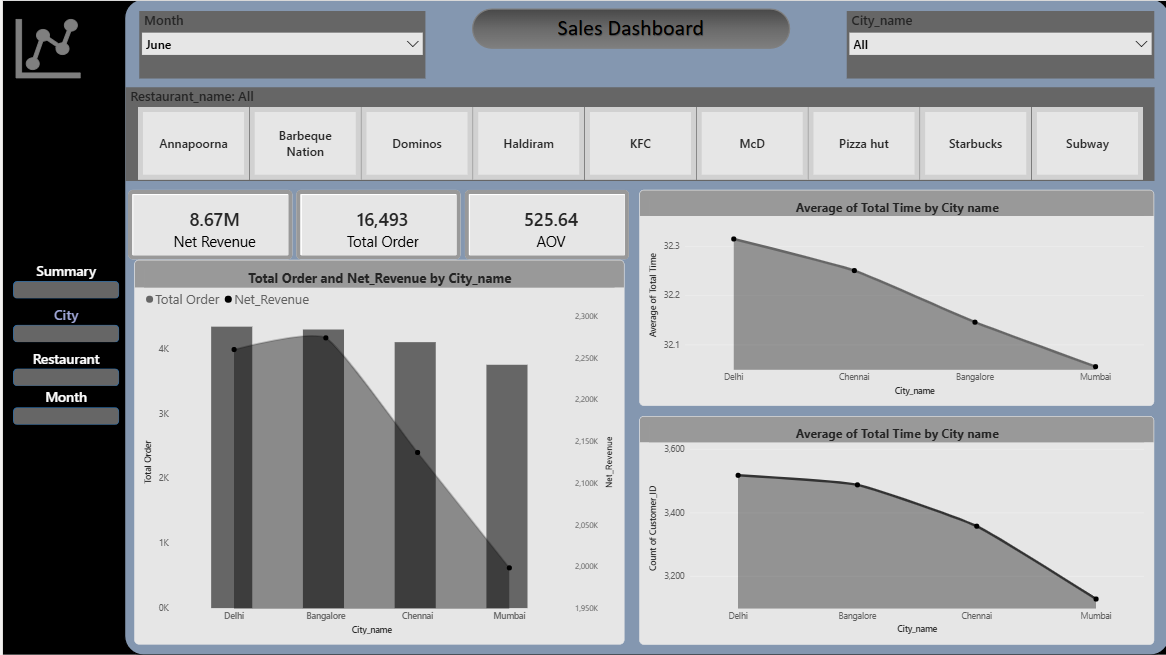

What the dashboard file says about the page in this screenshot:
{"tool":"powerbi","page":{"name":"City","canvas":[1920,1080],"ordinal":1},"visuals":[{"type":"slicer","fields":{"Values":["order details.Date.Variation.Date Hierarchy.Month"]},"box":[224.4,16.5,471.4,111.1],"z":0},{"type":"slicer","fields":{"Values":["city details.City_name"]},"box":[1389.4,16.5,506.3,111.1],"z":1000},{"type":"slicer","fields":{"Values":["city details.Restaurant_name"]},"box":[201.7,142,1694,154.4],"z":2000},{"type":"cardVisual","title":"Net Revenue","fields":{"Data":["order details.KPI Net Revenue_2","order details.KPI Total Order","order details.KPI AOV"]},"box":[205.8,310.8,825.4,115.3],"z":3000},{"type":"shape","title":"Summary","box":[16.5,428.1,175,61.7],"z":4000},{"type":"shape","title":"City","box":[16.5,500.2,175,61.7],"z":5000},{"type":"shape","title":"Restaurant","box":[16.5,572.2,175,61.7],"z":6000},{"type":"shape","title":"Month","box":[16.5,636,175,61.7],"z":7000},{"type":"lineStackedColumnComboChart","fields":{"Category":["city details.City_name"],"Y":["order details.Total Order"],"Y2":["order details.Net_Revenue"]},"box":[216.1,426.1,806.9,634],"z":8000},{"type":"lineChart","title":"Average of Total Time by City name","fields":{"Category":["city details.City_name"],"Y":["Avg(order details.Total Time)"]},"box":[1047.7,310.8,848,356.1],"z":9000},{"type":"lineChart","title":"Average of Total Time by City name","fields":{"Category":["city details.City_name"],"Y":["Count(customer details.Customer_ID)"]},"box":[1047.7,683.4,848,376.7],"z":9001}]}

Visuals, with their boxes on the page's 1920x1080 design canvas (x1, y1, x2, y2). These are canvas units, not pixel positions in the 1166x655 screenshot, which may show the page scaled, cropped or inside an application window:
slicer - order details.Date.Variation.Date Hierarchy.Month: (224, 16, 696, 128)
slicer - city details.City_name: (1389, 16, 1896, 128)
slicer - city details.Restaurant_name: (202, 142, 1896, 296)
"Net Revenue" cardVisual: (206, 311, 1031, 426)
"Summary" shape: (16, 428, 192, 490)
"City" shape: (16, 500, 192, 562)
"Restaurant" shape: (16, 572, 192, 634)
"Month" shape: (16, 636, 192, 698)
lineStackedColumnComboChart - city details.City_name x order details.Total Order: (216, 426, 1023, 1060)
"Average of Total Time by City name" lineChart: (1048, 311, 1896, 667)
"Average of Total Time by City name" lineChart: (1048, 683, 1896, 1060)
